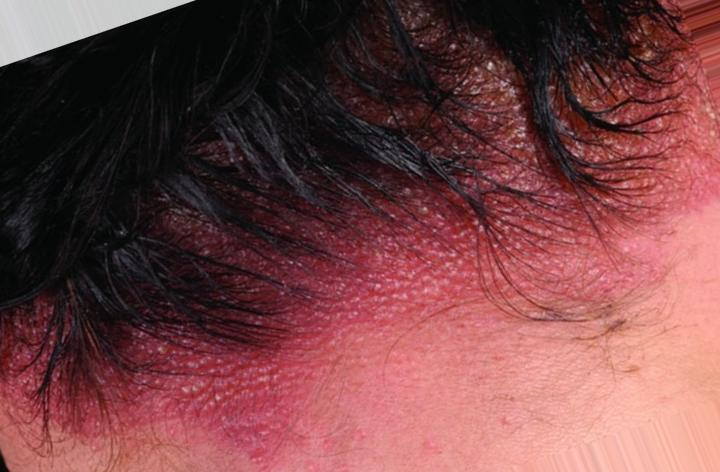Contact Dermatitis: (238, 114, 714, 351)
